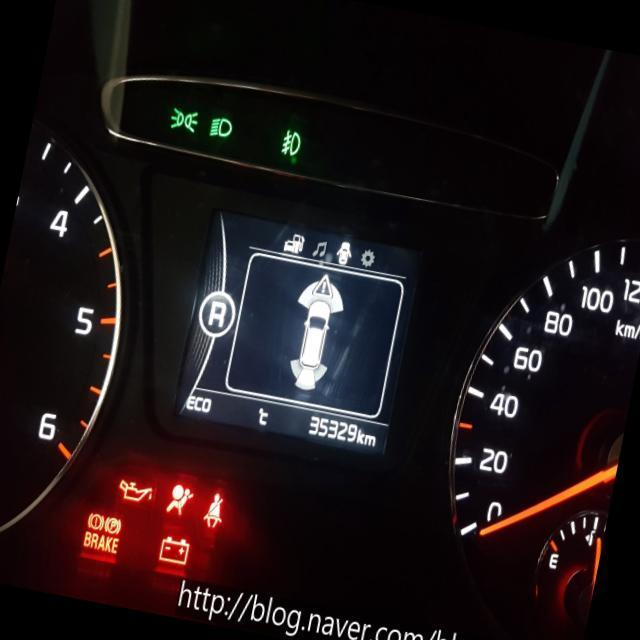FrontFogLight: (279, 126, 303, 158)
Low beam: (208, 114, 234, 140)
SideLamp: (168, 105, 199, 134)
